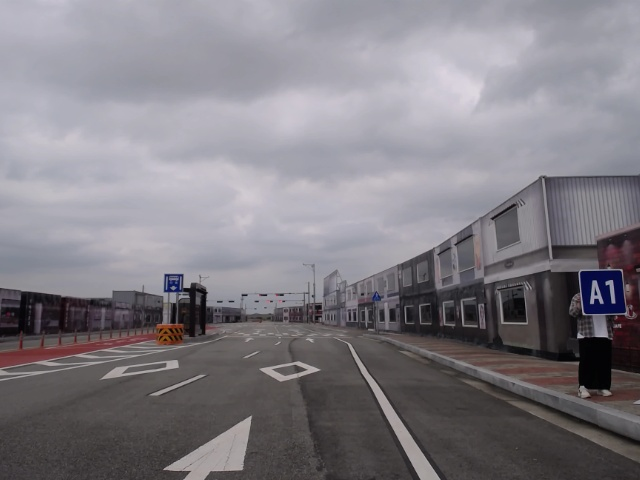delivery_a1: (578, 269, 627, 315)
